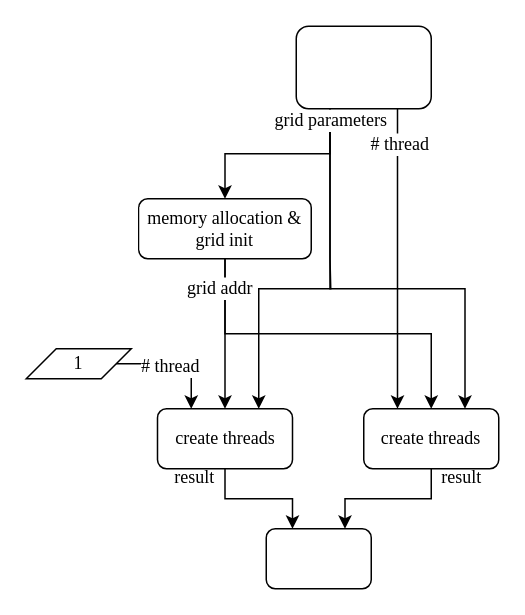
This 525x615 diagram has some shape labels left out. Each missing label, with the centre of its shape:
"ask user-defined parameters" belongs at [363,67].
"self-check" belongs at [318,558].
